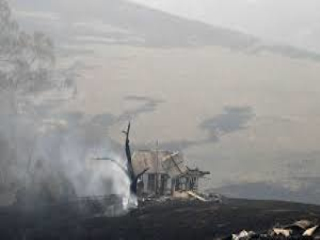smoke: (100, 144, 137, 212)
